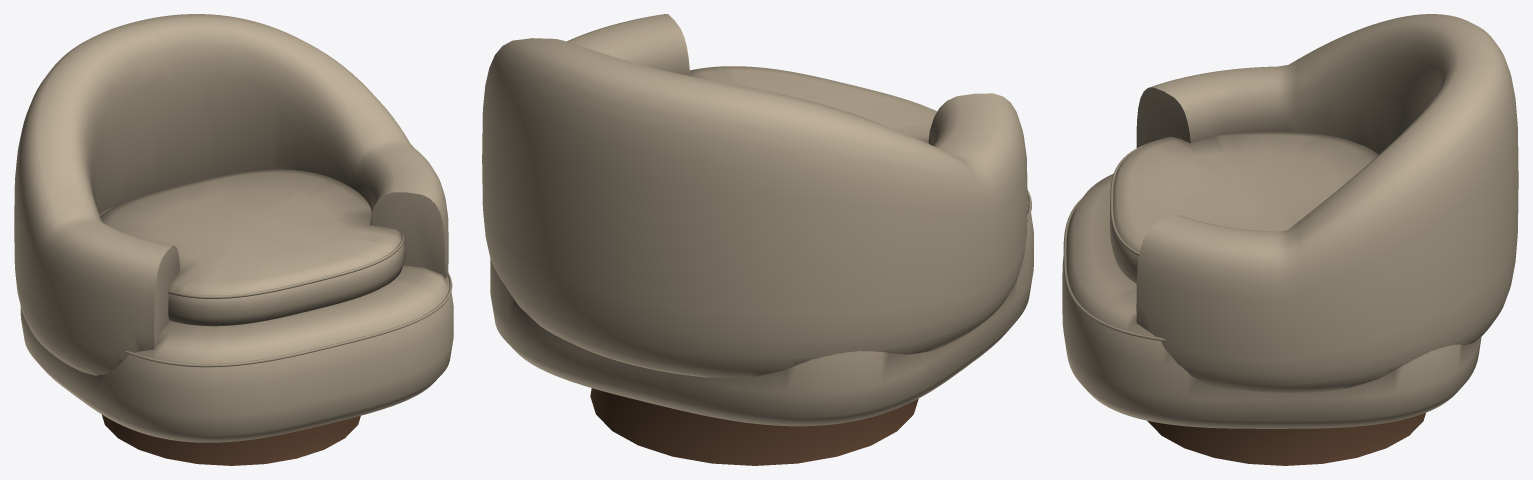
File: shell-chair.glb
3 views of the same model, side by side, from view 1: azimuth 30°, elevation 25°; view 2: azimuth 150°, elevation 25°; view 3: azimuth 270°, elevation 25° (orthographic). The views are drawn at different scales.
Parts seen in each view (by area): view 1: shell-chair; view 2: shell-chair; view 3: shell-chair.
Part boxes in pixels (bbox=[...]): shell-chair: bbox=[14, 14, 453, 465]; shell-chair: bbox=[482, 14, 1033, 465]; shell-chair: bbox=[1062, 14, 1518, 465].
Bounding box in the file's own units: 0.9499 × 0.771 × 0.91.
